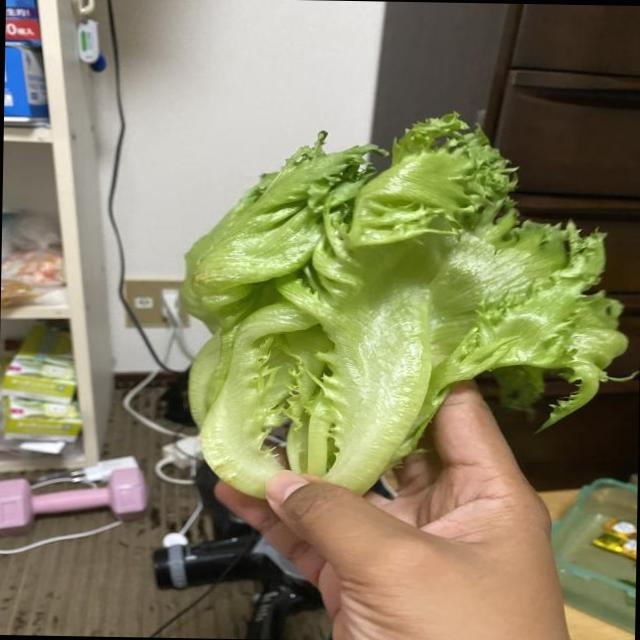Lettuce-Ready-to-Harvest: (182, 114, 626, 496)
